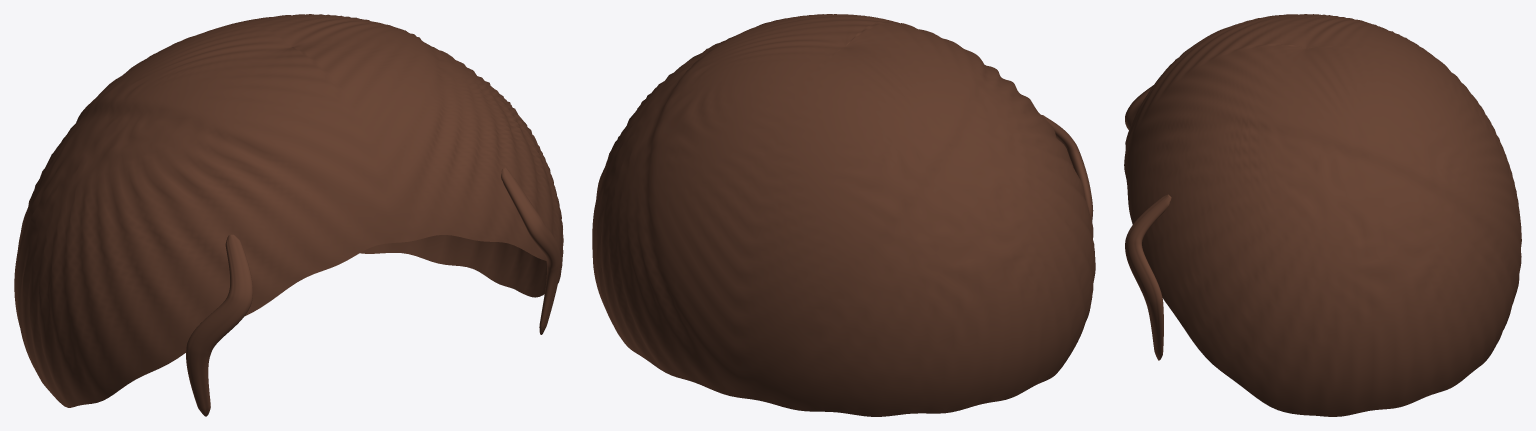
File: Feminine-space-buns-pashmina251-hair.glb
The picture shows the model from 3 angles, left to right: view 1: azimuth 30°, elevation 25°; view 2: azimuth 150°, elevation 25°; view 3: azimuth 270°, elevation 25°; orthographic projection. The views are drawn at different scales.
Visible parts, largest first — view 1: 226 hair / Hair / chestnut226.001; view 2: 226 hair / Hair / chestnut226.001; view 3: 226 hair / Hair / chestnut226.001.
Boxes of the visible parts, x1,y1,x2,y2 form: 226 hair / Hair / chestnut226.001: (14, 14, 563, 416); 226 hair / Hair / chestnut226.001: (592, 14, 1095, 416); 226 hair / Hair / chestnut226.001: (1124, 14, 1521, 416).
Size of the model in its own units: 0.9988 by 0.599 by 0.7845.
